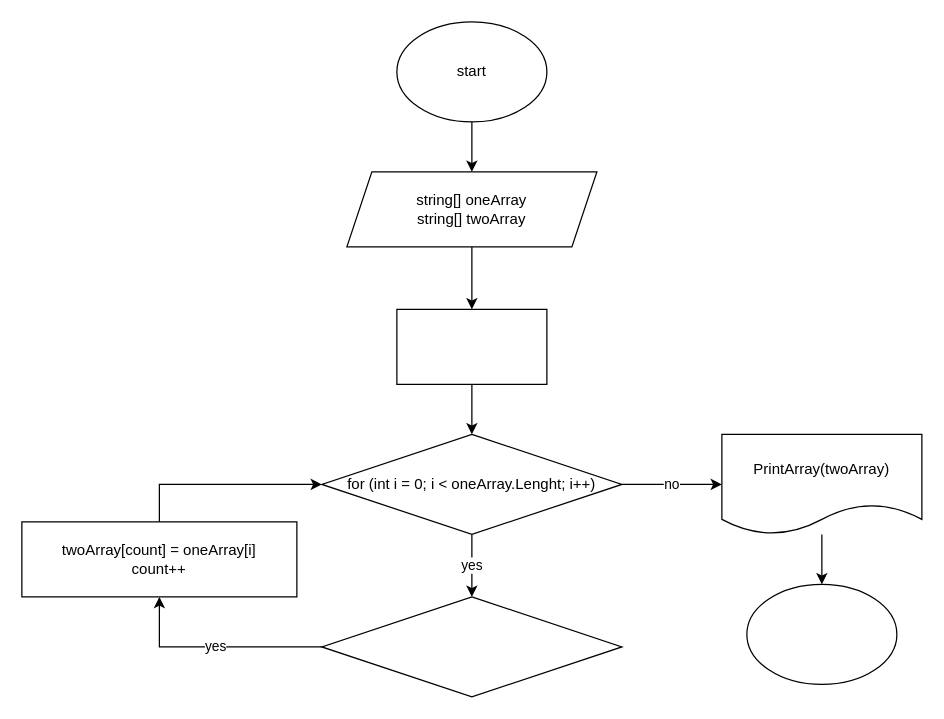
Image size: 944x719. Some labels were removed from this diagram. Each missing label, with the centre of its shape:
"end" belongs at [821,633].
"if(oneArray[i].Lenght <= 3" belongs at [471,646].
"int count = 0" belongs at [471,346].
